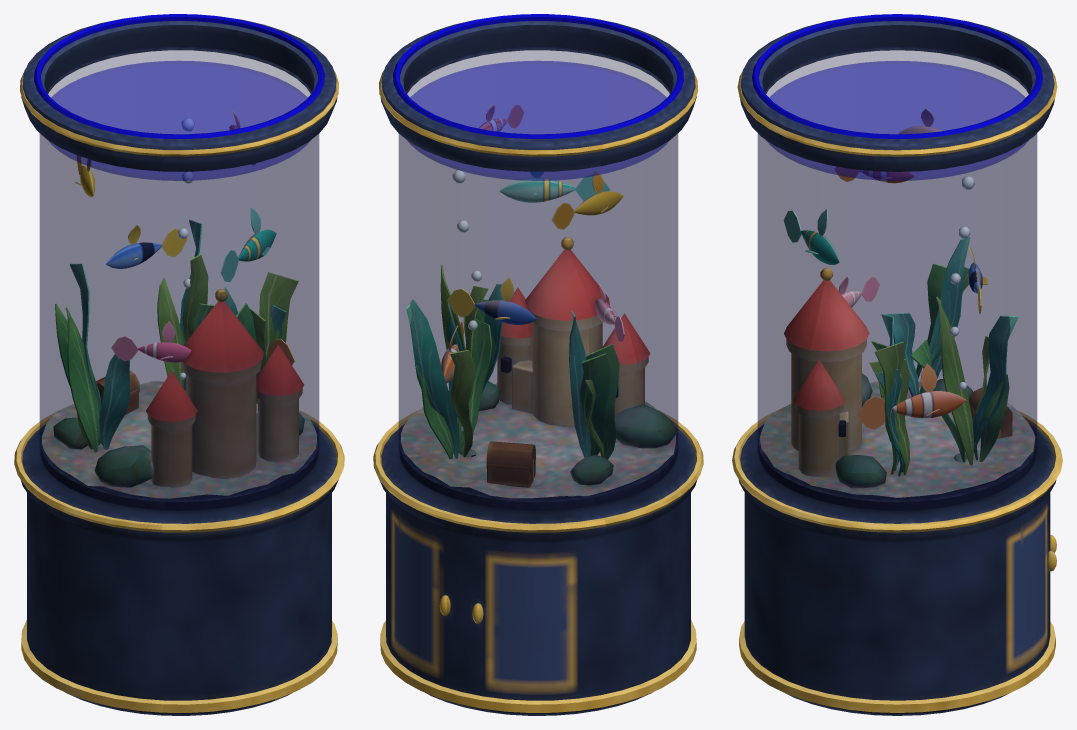
File: aquarium.fbx
3 views of the same model, side by side, from view 1: azimuth 30°, elevation 25°; view 2: azimuth 150°, elevation 25°; view 3: azimuth 270°, elevation 25° (orthographic).
Visible parts, largest first — view 1: Body, Anim Sway, Anim Spin, Anim Sway.002, Anim Sway.001; view 2: Body, Anim Sway.002, Anim Spin, Anim Sway, Anim Sway.001; view 3: Body, Anim Sway.002, Anim Spin, Anim Sway, Anim Sway.001.
Boxes of the visible parts, x1,y1,x2,y2 form: Body: (14,14,344,715); Anim Sway: (55,263,129,451); Anim Spin: (75,111,294,364); Anim Sway.002: (157,220,214,392); Anim Sway.001: (223,272,298,403); Body: (373,14,703,715); Anim Sway.002: (406,285,492,459); Anim Spin: (441,104,624,383); Anim Sway: (569,310,619,459); Anim Sway.001: (440,264,503,417); Body: (732,14,1062,715); Anim Sway.002: (910,296,1018,465); Anim Spin: (783,108,988,429); Anim Sway: (885,237,970,396); Anim Sway.001: (869,314,909,476).
Bounding box in the file's own units: 0.888 × 1.72 × 0.888.
